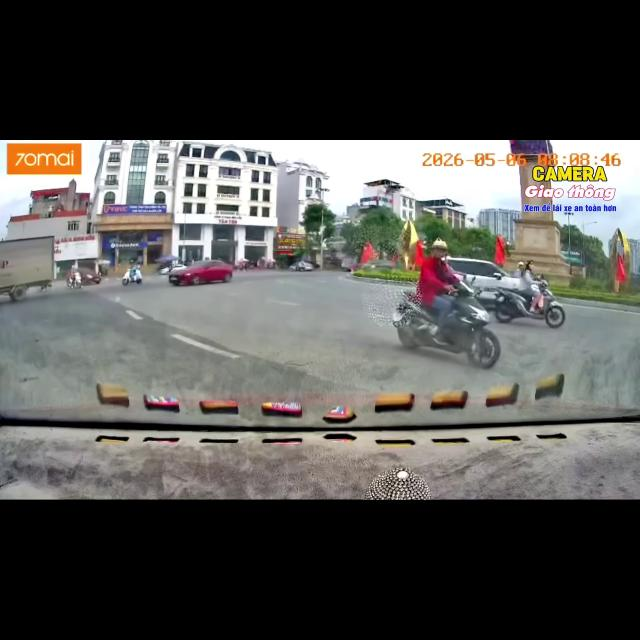car: (448, 258, 519, 303), (169, 260, 233, 285), (77, 267, 101, 284), (289, 261, 314, 271)
motorcycle: (392, 281, 500, 368), (495, 280, 565, 328), (122, 268, 142, 285), (158, 263, 186, 274), (67, 271, 83, 289)
truck: (0, 236, 54, 301)
